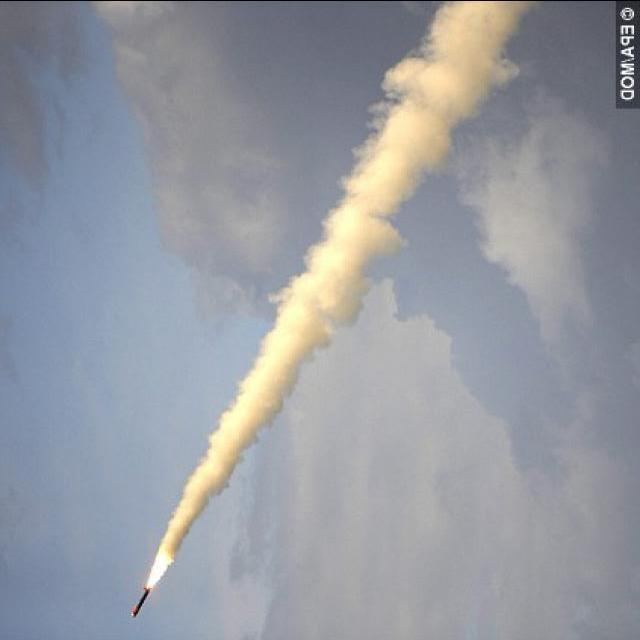missile: (121, 583, 156, 618)
